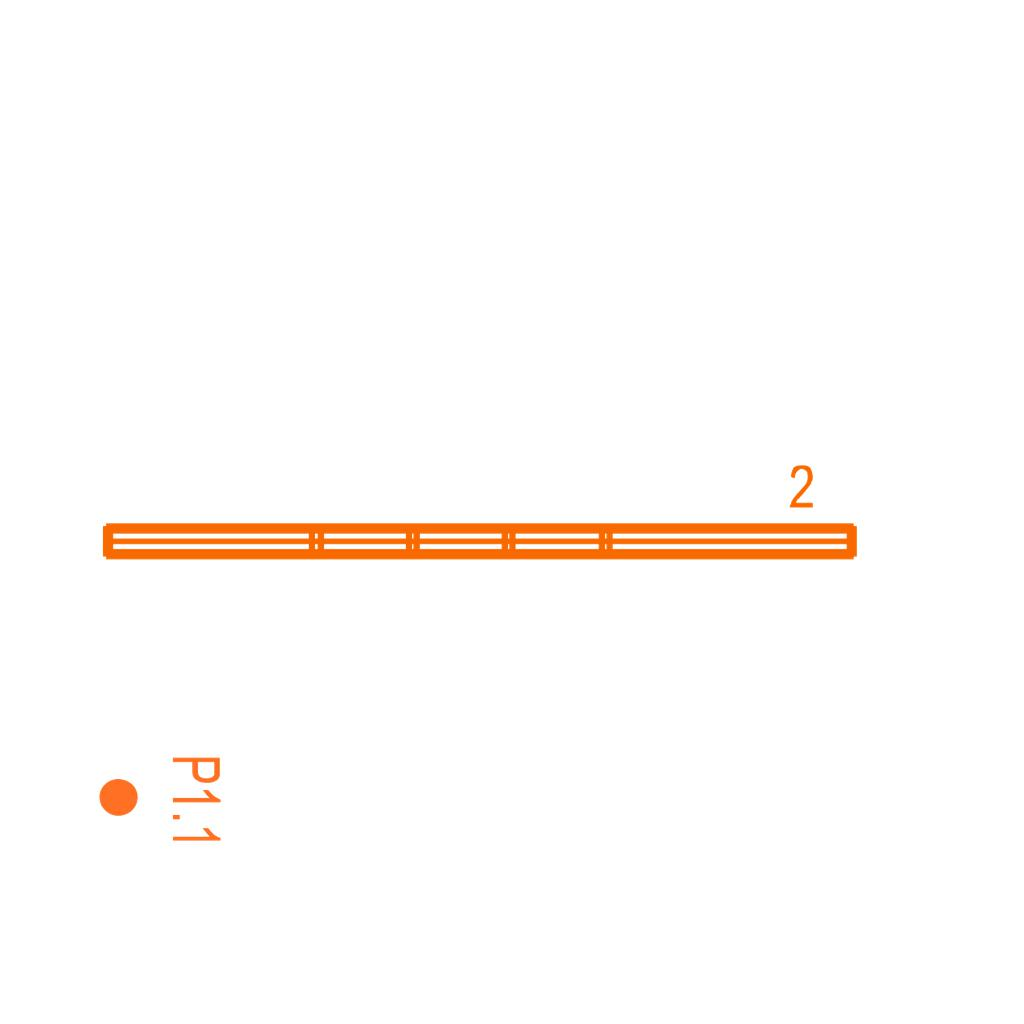Ambulanz_Pendelleuchte_LED: (92, 460, 866, 572)
Downlight_LED_Einbauleuchten_Flur_2: (96, 754, 224, 847)
